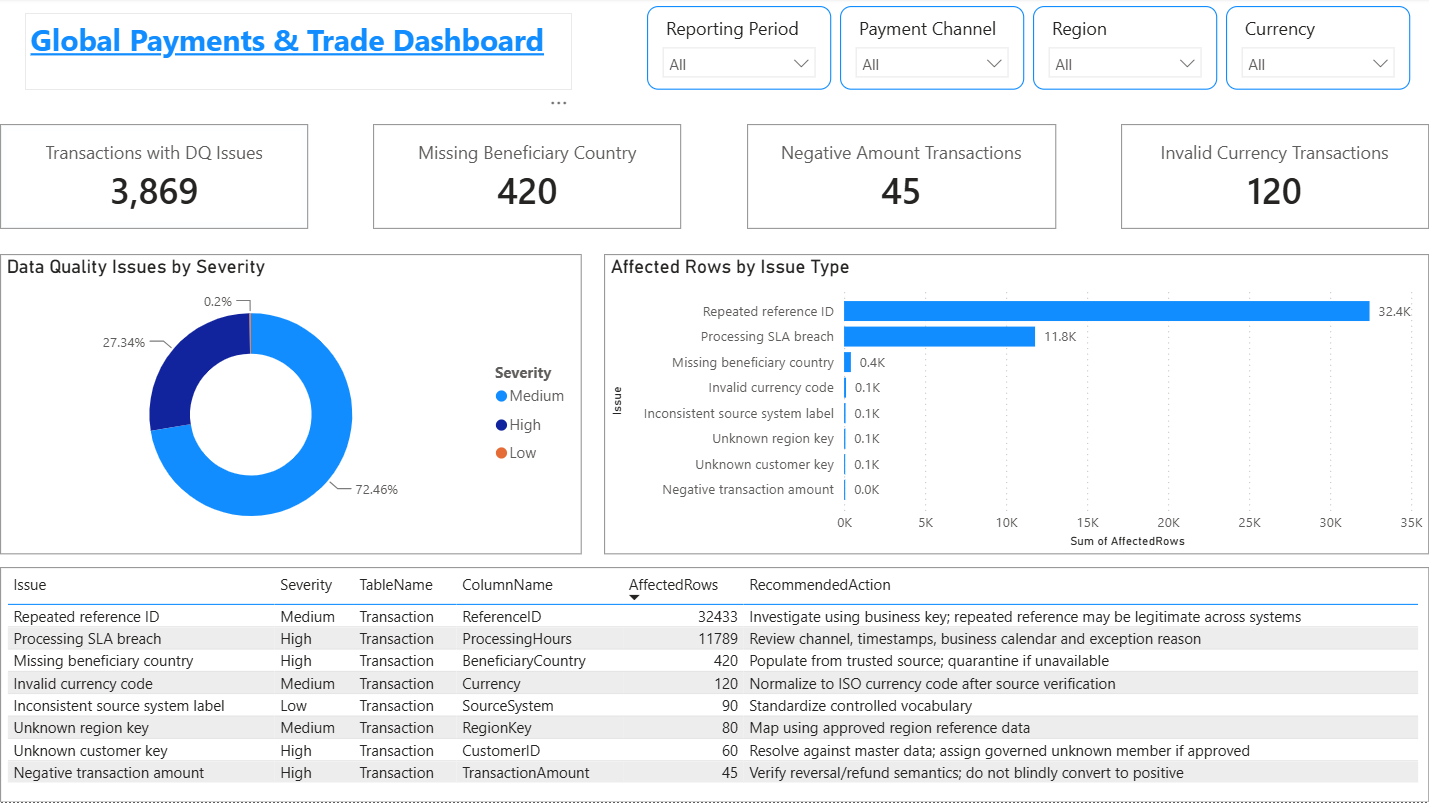

The dashboard page shown, as its layout file describes it:
{"tool":"tableau","page":{"name":"Data Quality & Controls","canvas":[1000,1000],"units":"permille","ordinal":0},"visuals":[{"type":"title","box":[4.7,8.9,990.6,45.8]},{"type":"worksheet","title":"Missing Beneficiary Country","mark":"Automatic","box":[236.4,77,168.5,92.6]},{"type":"worksheet","title":"Transactions with DQ Issues","mark":"Automatic","box":[8.8,80.4,161.5,82.6]},{"type":"worksheet","title":"Invalid Currency","mark":"Automatic","box":[444.7,81.5,129.3,89.3]},{"type":"worksheet","title":"Negative Amount Transactions","mark":"Automatic","box":[604.5,82.6,190.2,93.8]},{"type":"worksheet","title":"Repeated Reference IDs","mark":"Automatic","box":[815.1,90.4,177.9,85.9]},{"type":"filter","title":"DQ Issues by Type","param":"[federated.0pb43j907aj0ad1bkzezx1xp1x8t].[none:PaymentChannel:nk]","box":[12.3,189.7,93.6,154]},{"type":"filter","title":"DQ Issues by Type","param":"[federated.0pb43j907aj0ad1bkzezx1xp1x8t].[none:Region:nk]","box":[250.4,193.1,187.8,151.8]},{"type":"filter","title":"DQ Issues by Type","param":"[federated.0pb43j907aj0ad1bkzezx1xp1x8t].[none:TransactionDate:qk]","box":[539.5,195.3,129.3,68.1]},{"type":"filter","title":"DQ Issues by Type","param":"[federated.0pb43j907aj0ad1bkzezx1xp1x8t].[none:Currency:nk]","box":[774.7,196.4,166.2,108.3]},{"type":"worksheet","title":"DQ Issues by Region","mark":"Automatic","rows":["Region"],"cols":["TransactionID"],"box":[575.8,356,419.5,633.9]},{"type":"worksheet","title":"DQ Issues by Type","mark":"Automatic","rows":["TransactionID"],"cols":["Calculation_0465433516388352"],"box":[0,368.3,526,623.9]}]}

Visuals, with their boxes on the dashboard's canvas, which has no fixed pixel size, in thousandths of its width and height (x1, y1, x2, y2). These are canvas units, not pixel positions in the 1429x803 screenshot, which may show the page scaled, cropped or inside an application window:
title: (x1=5, y1=9, x2=995, y2=55)
"Missing Beneficiary Country" worksheet: (x1=236, y1=77, x2=405, y2=170)
"Transactions with DQ Issues" worksheet: (x1=9, y1=80, x2=170, y2=163)
"Invalid Currency" worksheet: (x1=445, y1=82, x2=574, y2=171)
"Negative Amount Transactions" worksheet: (x1=604, y1=83, x2=795, y2=176)
"Repeated Reference IDs" worksheet: (x1=815, y1=90, x2=993, y2=176)
"DQ Issues by Type" filter: (x1=12, y1=190, x2=106, y2=344)
"DQ Issues by Type" filter: (x1=250, y1=193, x2=438, y2=345)
"DQ Issues by Type" filter: (x1=540, y1=195, x2=669, y2=263)
"DQ Issues by Type" filter: (x1=775, y1=196, x2=941, y2=305)
"DQ Issues by Region" worksheet: (x1=576, y1=356, x2=995, y2=990)
"DQ Issues by Type" worksheet: (x1=0, y1=368, x2=526, y2=992)
